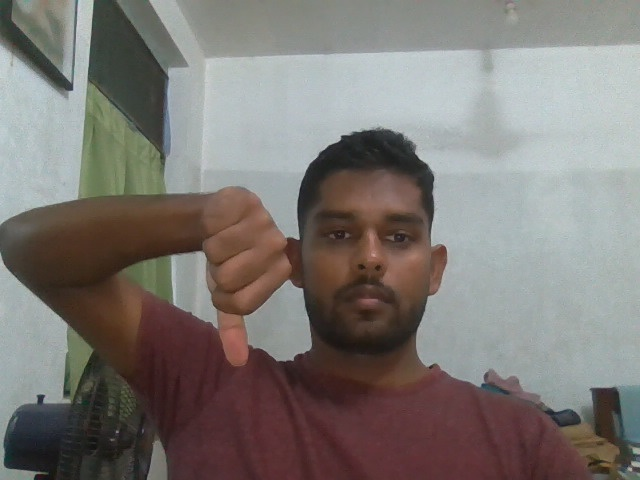dontlike: (182, 169, 307, 381)
